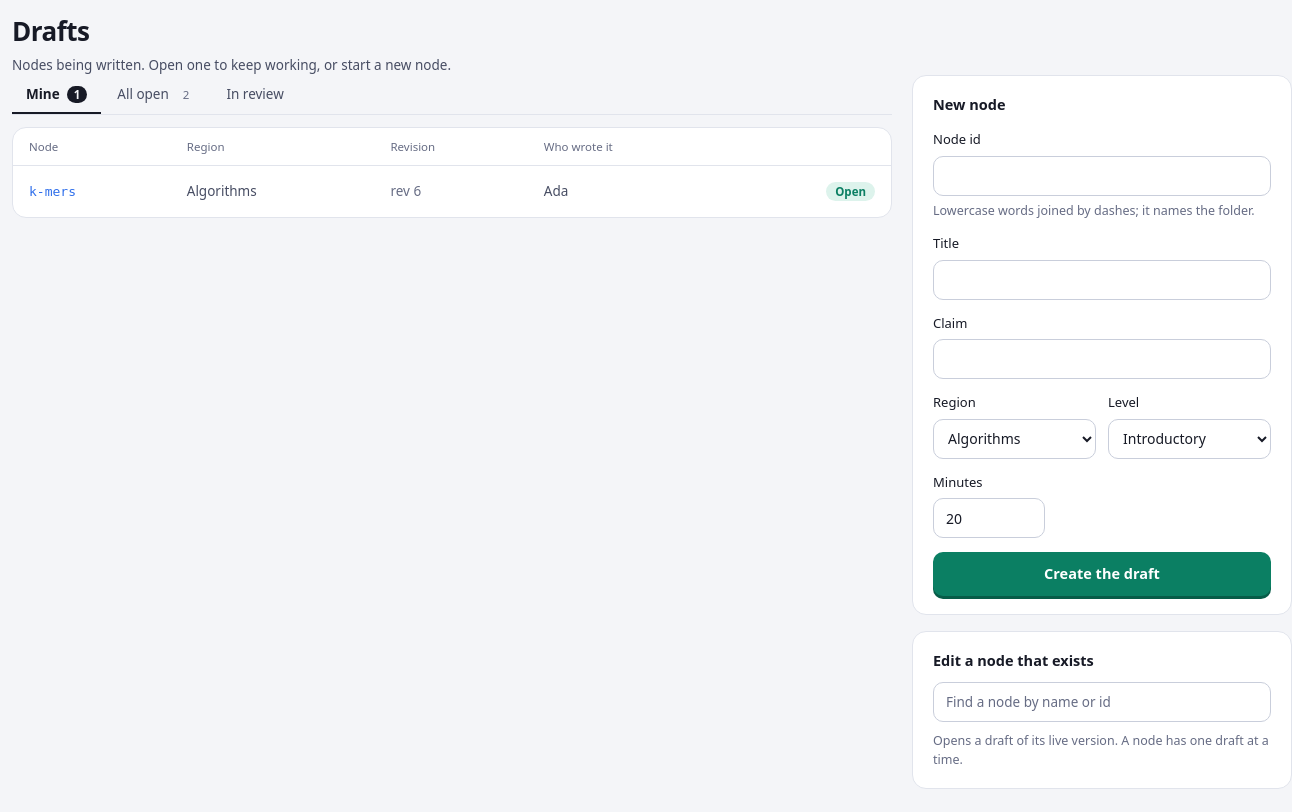
Scenario: DraftsPage › shows my drafts first, and all open ones on asking
The image size is (1292, 812).
Expected: the text "tpm" is not shown
Click the tab "All open 2" at (157, 94), box [103, 75, 210, 114]
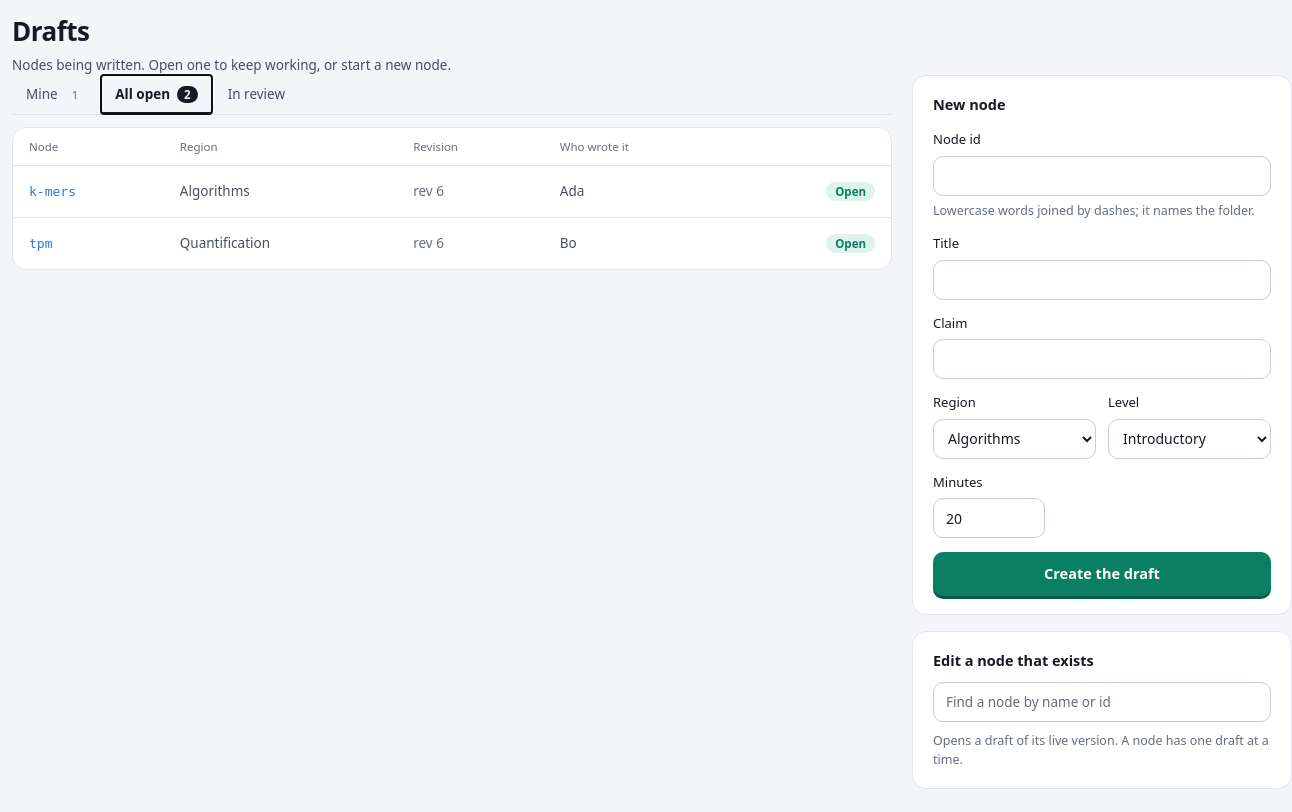
Result: the link "tpm" is shown at [29, 236, 52, 251]
